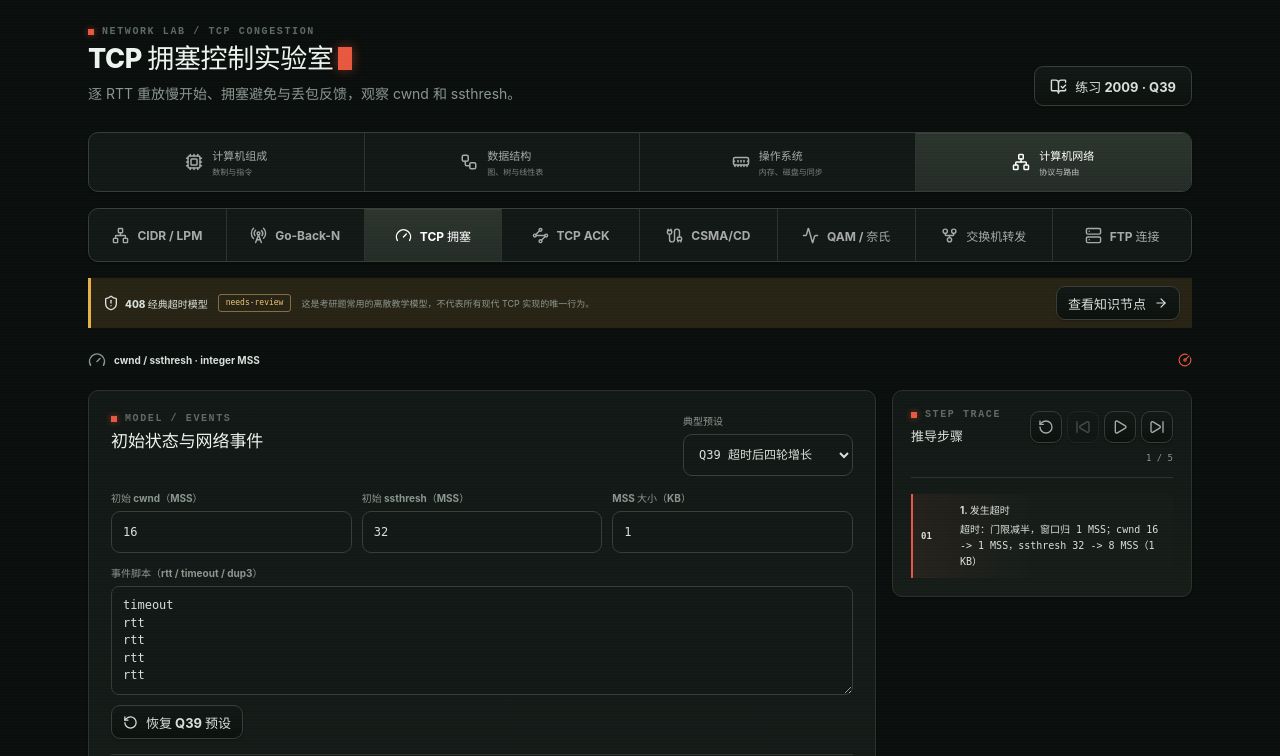
TcpCongestionLabPage › synchronizes the chart and state with the step controls
Click the button named "下一步": [1157, 428] box [1141,412,1173,444]
(page scrolled)
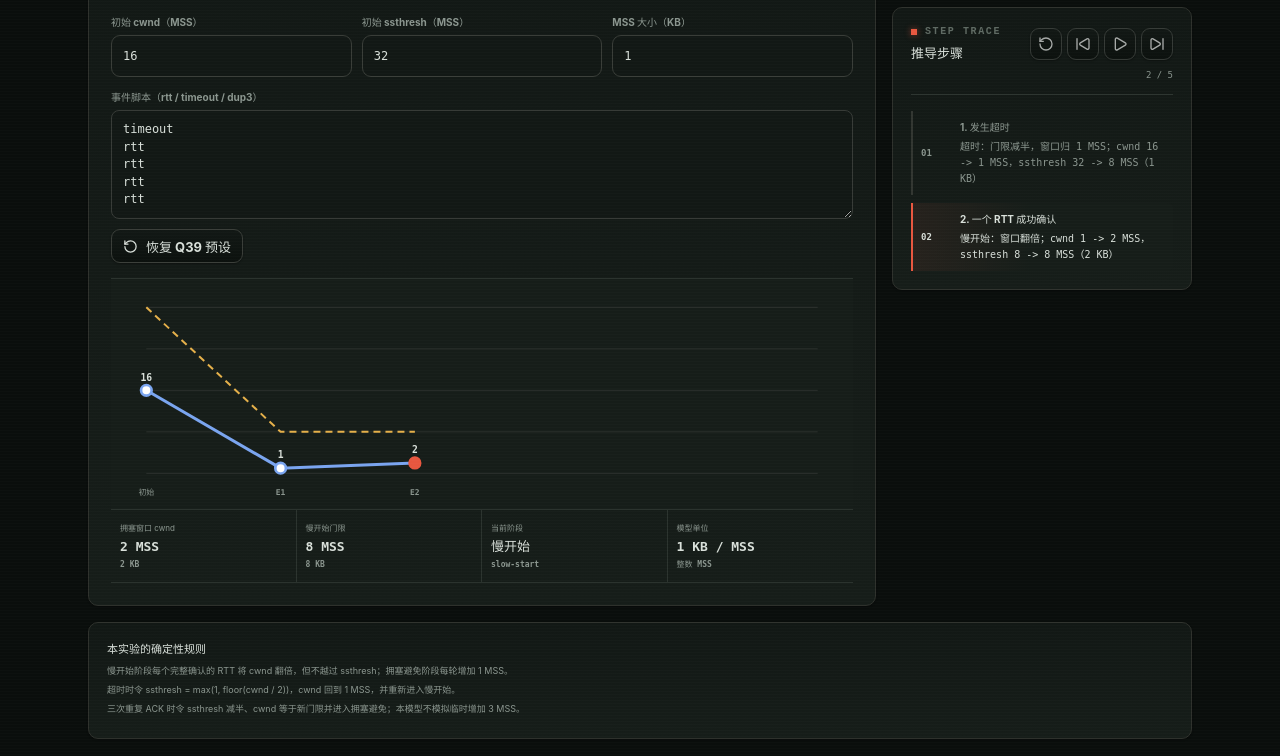
expect the element with class "tcp-state-summary" shows "2 MSS": met, box [111,510,853,583]
